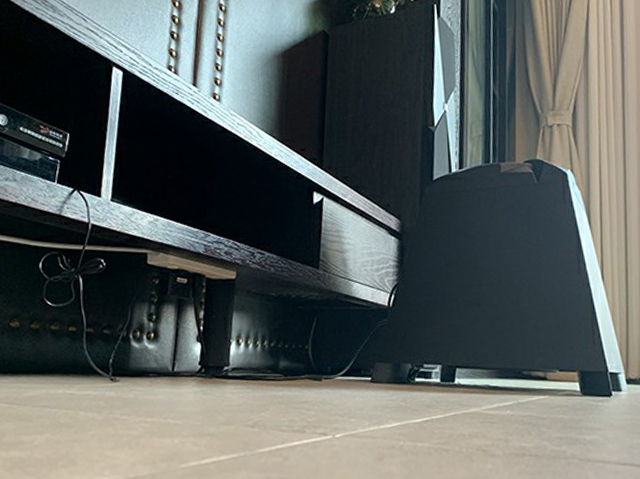cabinet: (1, 1, 411, 379)
curtain: (520, 1, 640, 384)
wire: (38, 240, 180, 384), (204, 350, 365, 388)
